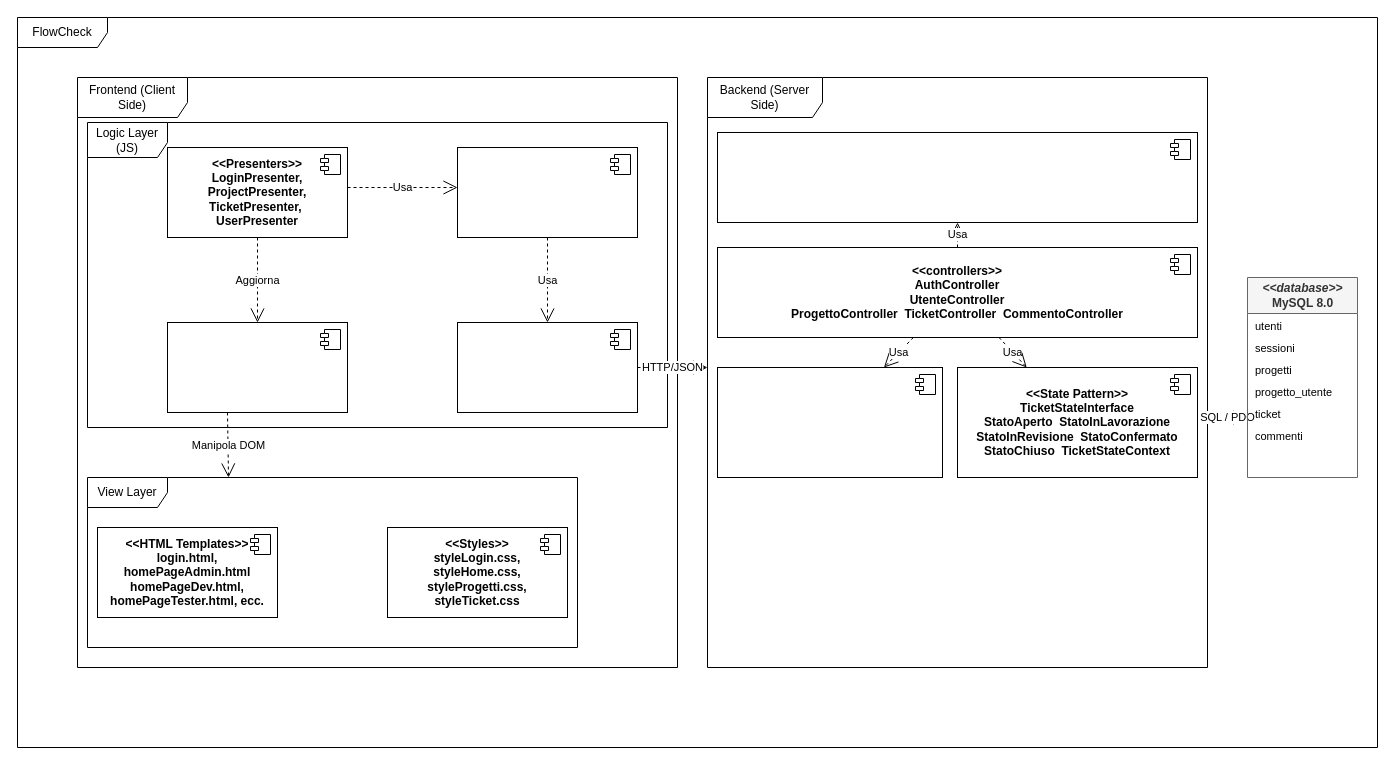
Image size: 1395x765. Some labels were removed from this diagram. The shapes that lost their labels are listed below. From the top down, each one's centre as x and y in pixels, then its label:
At (547,192): "<<Models>> LoginModel, ProjectModel, TicketModel, UserModel".
At (957,177): "<<infrastructure>> Router AuthMiddleware Database <<Singleton>>".
At (257,367): "<<Views>> LoginView, ProjectView, TicketView, UserView".
At (547,367): "<<Core / Network>> ApiClient, ProjectFactory, TicketFactory, UserFactory".
At (829,422): "<<Factory Method>> TicketFactory BaseTicket {abstract} BugTicket FeatureTicket".
